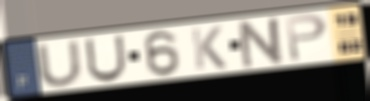6: (142, 29, 182, 78)
K: (189, 25, 229, 72)
N: (237, 14, 287, 70)
P: (283, 12, 330, 64)
U: (34, 38, 86, 88), (83, 34, 128, 84)
